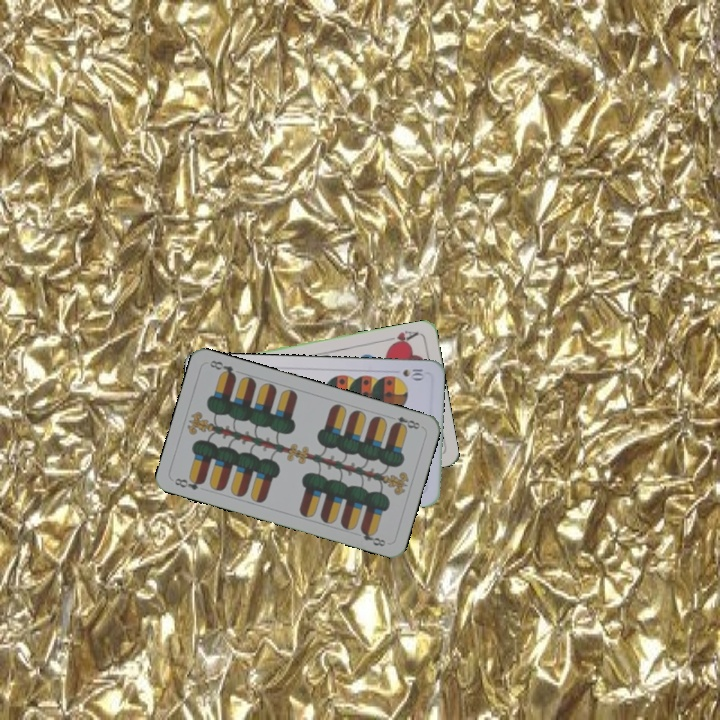E8: (170, 473, 207, 493), (388, 412, 423, 432)
HA: (381, 326, 421, 349)
S10: (399, 365, 426, 382)
